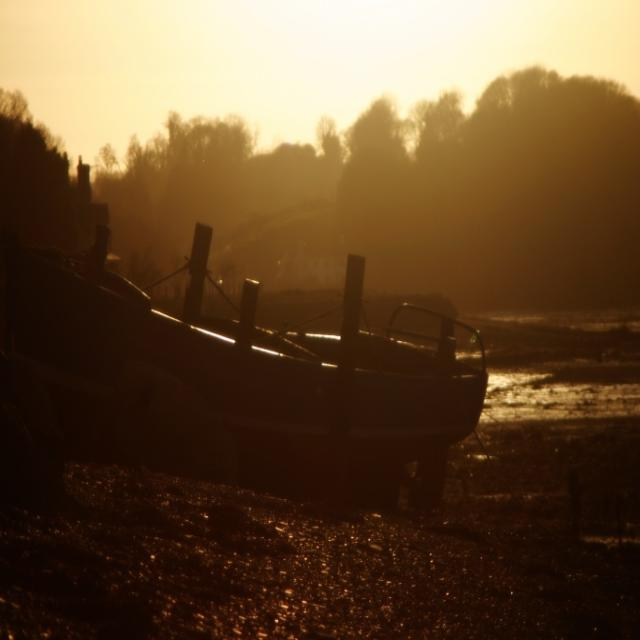Boat: (2, 245, 492, 499)
